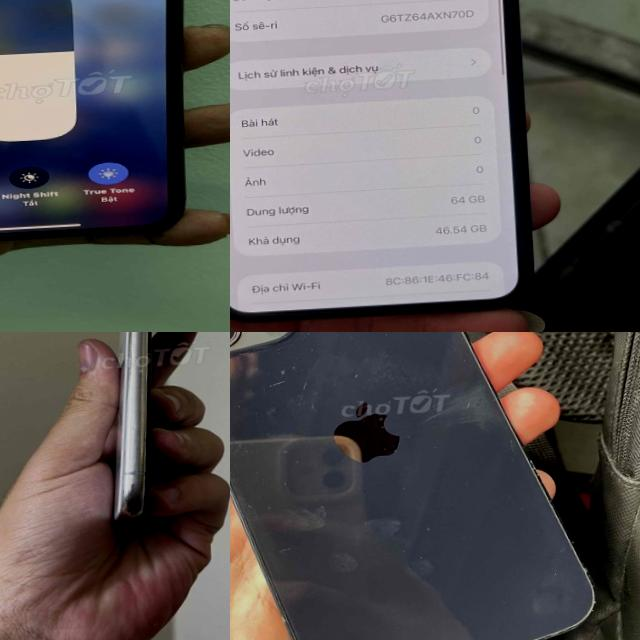gen_11: (230, 0, 537, 319)
gen_12_13: (230, 332, 610, 640)
gen_x_xs: (0, 0, 211, 256), (113, 332, 152, 525)
